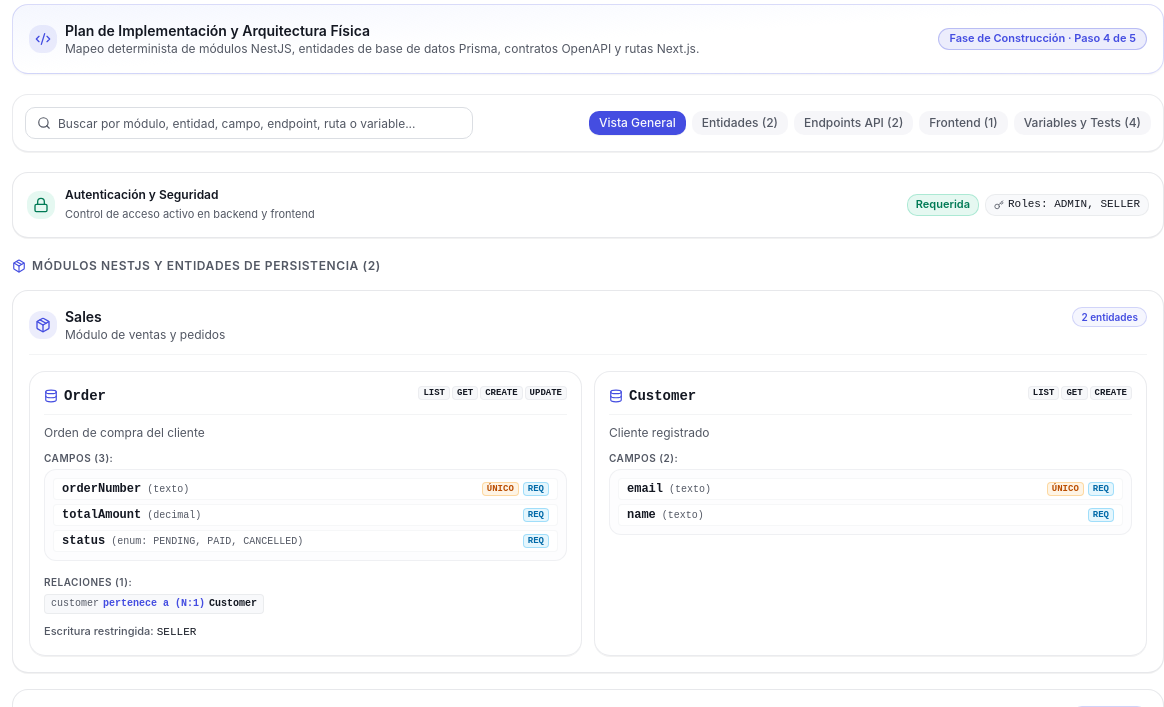
Test case: ImplementationPlanDetail › filters by category tabs
The image size is (1164, 707).
Note: Switch to Endpoints tab
Click the button "Endpoints API (2)": (854,123) [794,111,913,135]
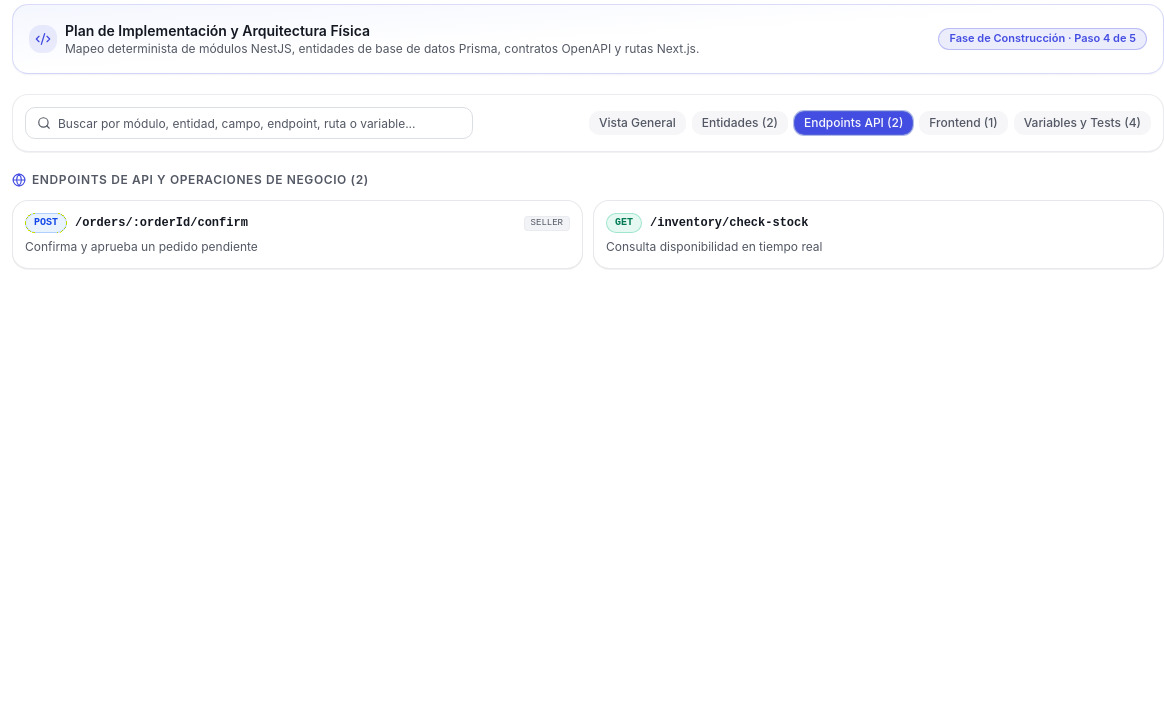
Expected: the text "/orders/:orderId/confirm" is shown, [75,215,248,231]
Expected: the text "Listado de Pedidos" is not shown
Note: Switch to Frontend tab
Click the button "Frontend (1)": (964,123) [919,111,1008,135]
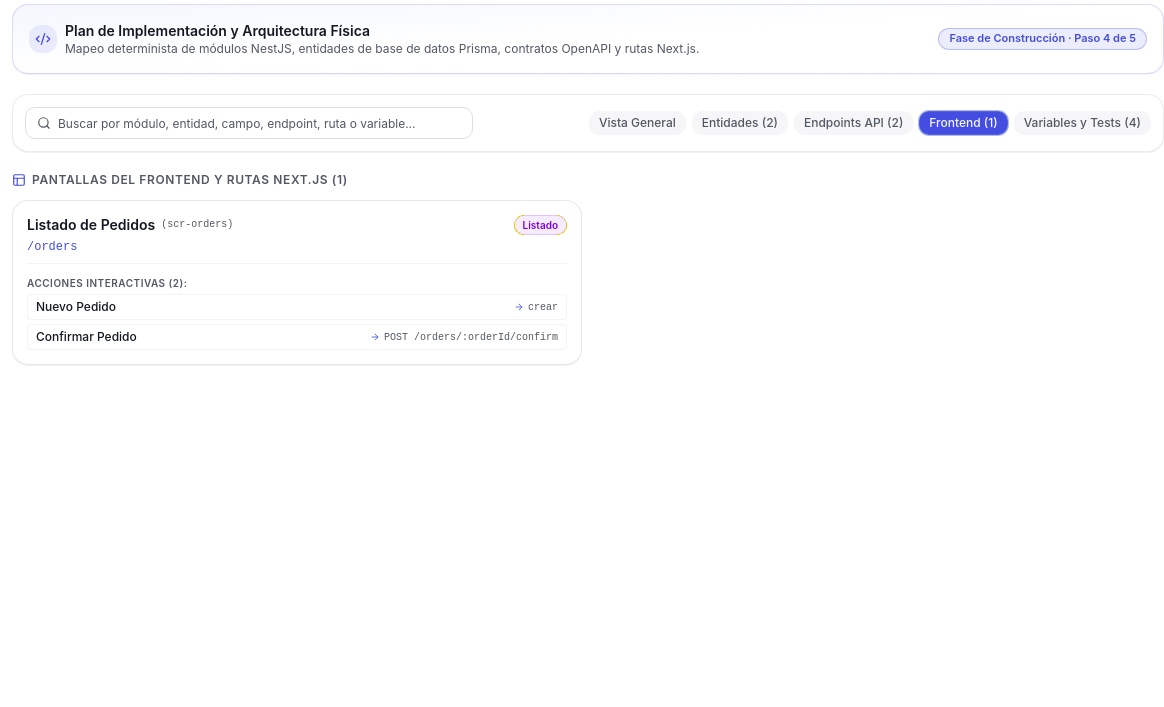
Expected: the text "Listado de Pedidos" is shown, [27,215,155,235]
Expected: the text "/inventory/check-stock" is gone
